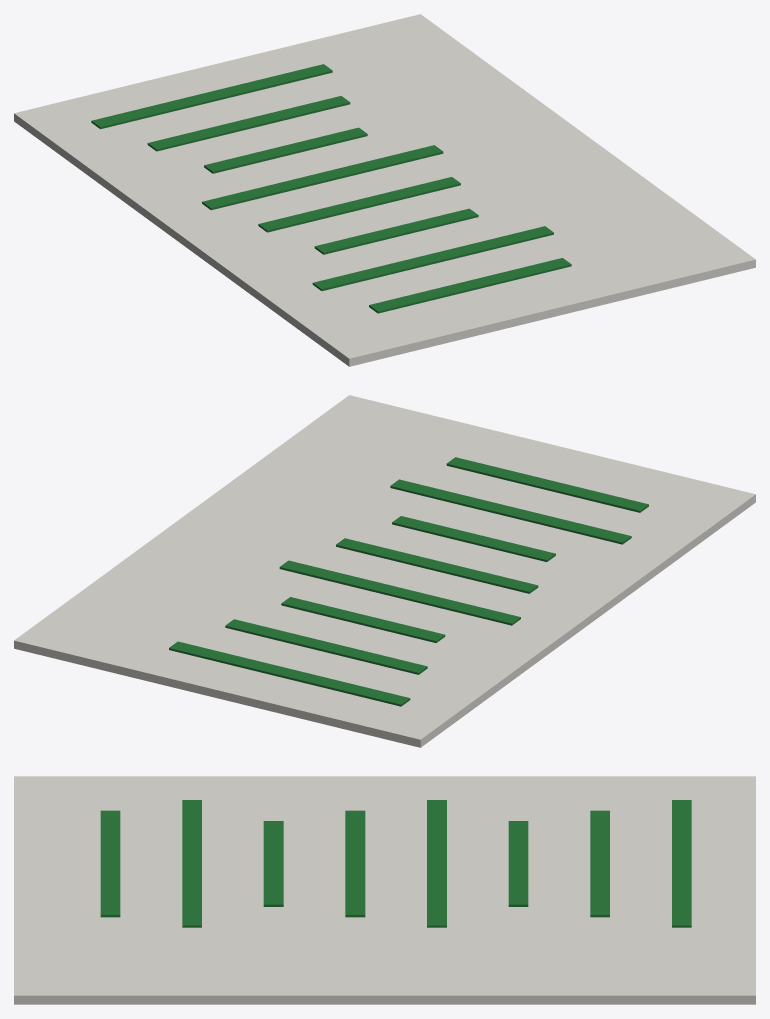
Rendered from listener_list.glb.
3 views of the same model, one above another, from view 1: azimuth 30°, elevation 25°; view 2: azimuth 150°, elevation 25°; view 3: azimuth 270°, elevation 25° (orthographic). The views are drawn at different scales.
Parts seen in each view (by area): view 1: sheet_white, lines_ink_green (×8); view 2: sheet_white, lines_ink_green (×8); view 3: sheet_white, lines_ink_green (×8).
Boxes of the visible parts, x1=… form: sheet_white: x1=14, y1=14, x2=755, y2=366; lines_ink_green (×8): x1=91, y1=64, x2=571, y2=313; sheet_white: x1=14, y1=395, x2=755, y2=747; lines_ink_green (×8): x1=169, y1=457, x2=648, y2=706; sheet_white: x1=14, y1=776, x2=755, y2=1004; lines_ink_green (×8): x1=100, y1=800, x2=691, y2=927.
Bounding box in the file's own units: 0.21 × 0.005 × 0.3.
